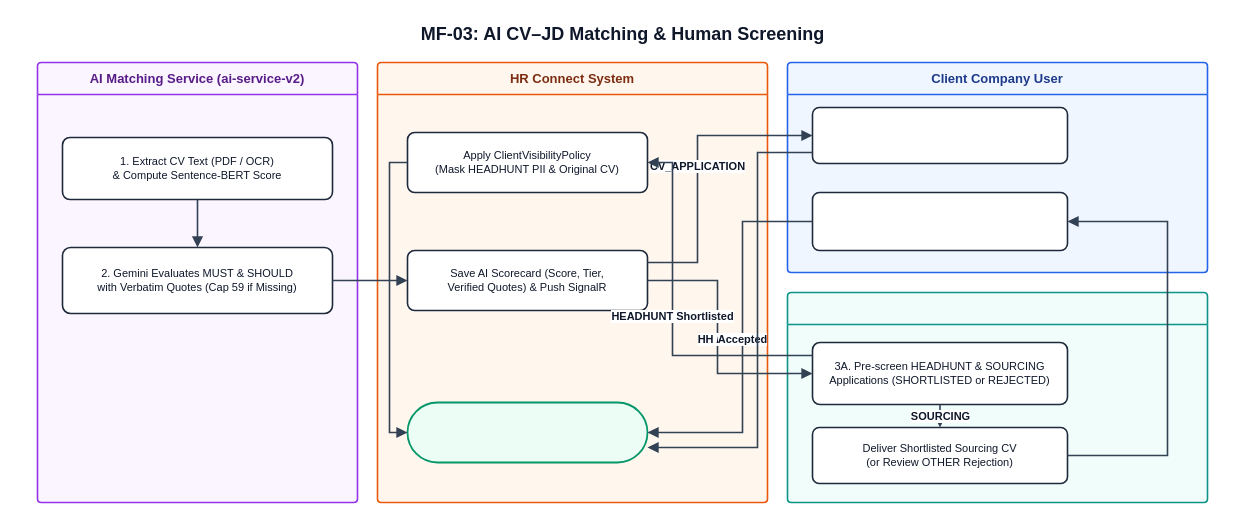
The diagram is 1244 pixels wide and 520 high, and some of its shapes have lost their labels. Each missing label, with the box of its shape:
3B. Screen Direct CV_APPLICATION (Shortlist or Reject): (811, 106, 1068, 164)
Accept or Reject Delivered CV_SOURCING CV (7d Auto-Accept): (811, 191, 1068, 251)
Advance Qualified Application to MF-04 (Interview & Offer): (406, 401, 648, 463)
Internal HR: (786, 291, 1208, 503)
